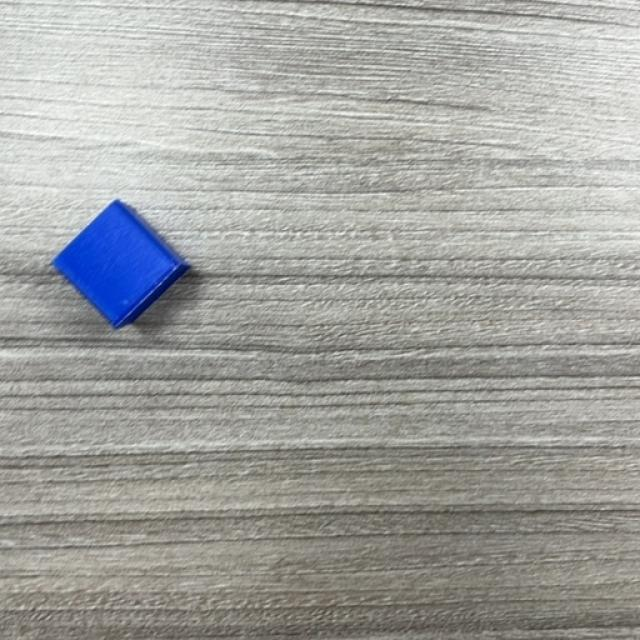Azul: (50, 200, 191, 331)
